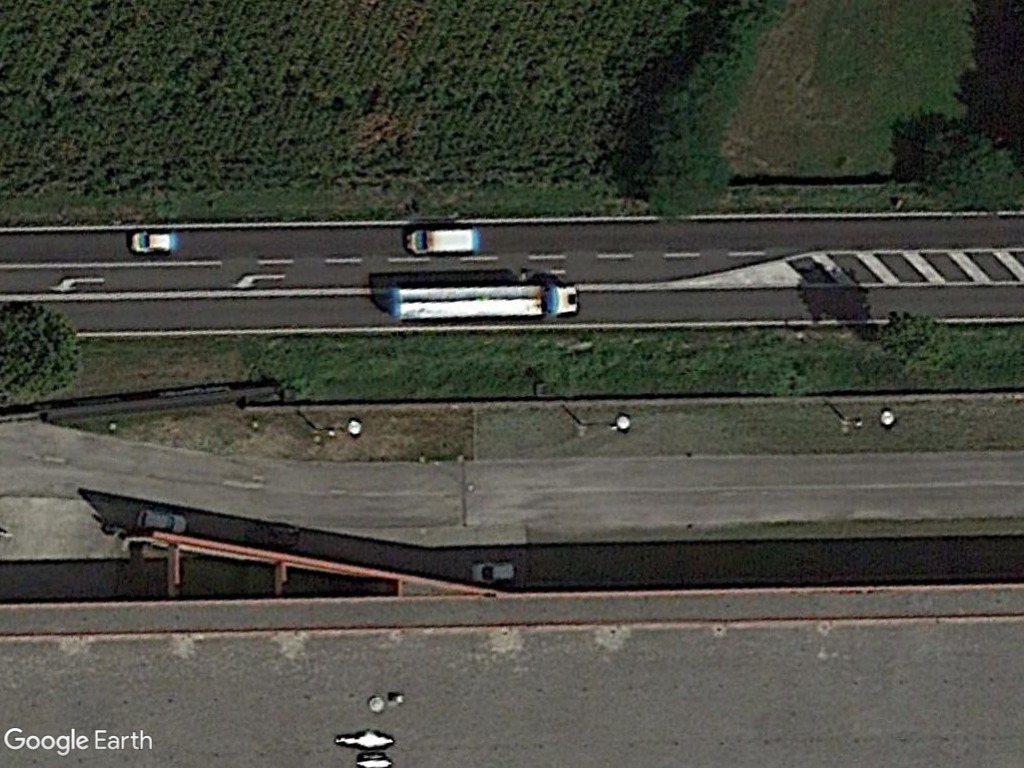car: (135, 506, 189, 538), (463, 556, 519, 586), (127, 231, 177, 255)
longvehicle: (383, 276, 585, 323)
van: (403, 225, 478, 254)
